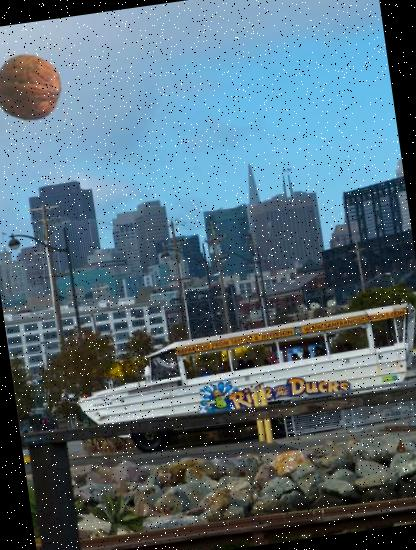Walnut: (0, 48, 67, 126)
